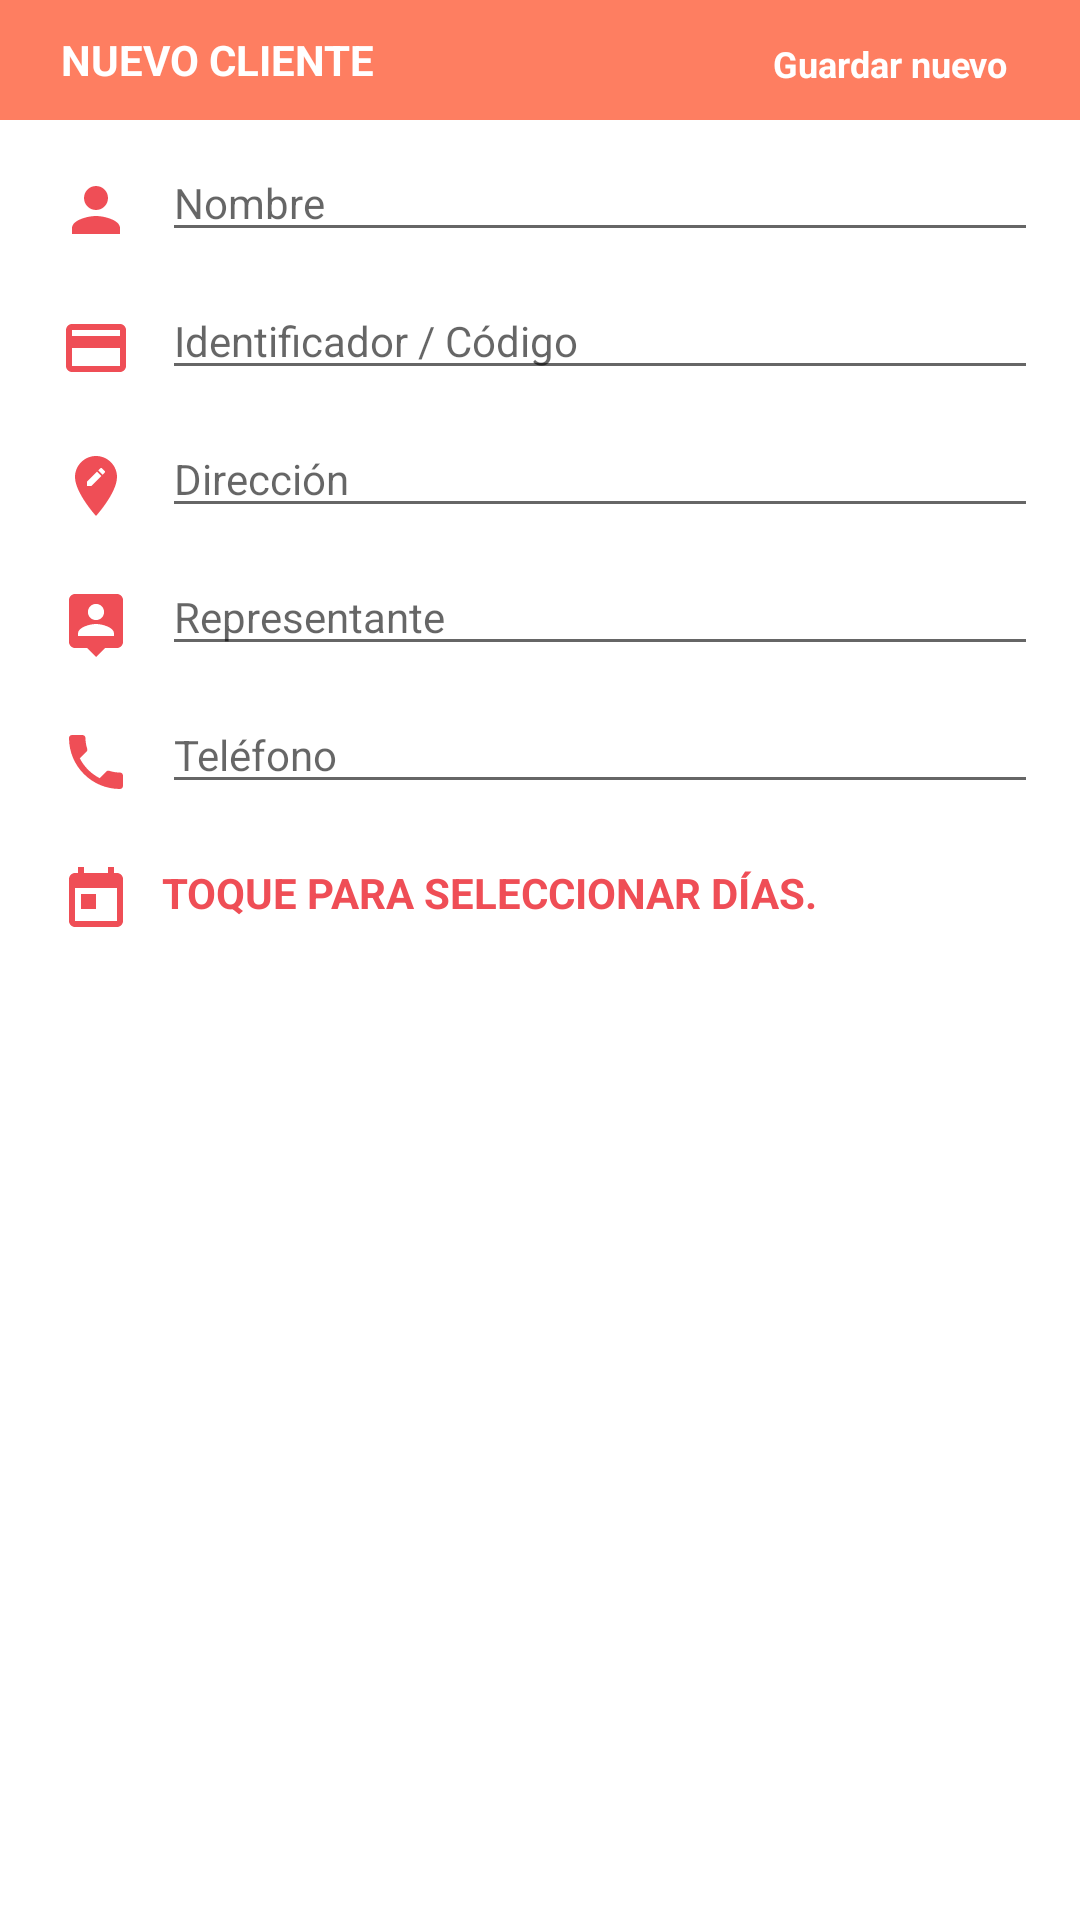

Named icons in this screenshot (1080w x 1920h) and their centers, (x,y):
address customer: (96,486)
days: (96,897)
local phone: (96,762)
person profile: (96,210)
